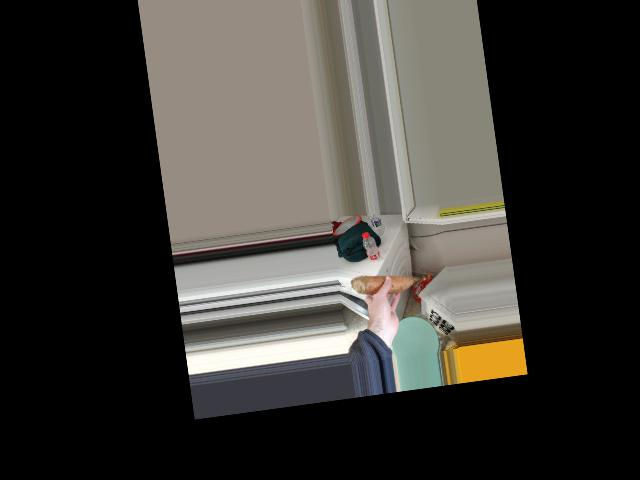sweet_potato: (360, 275, 414, 297)
